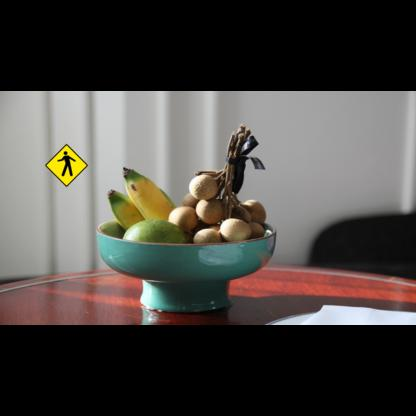A-32a: (45, 144, 88, 187)
